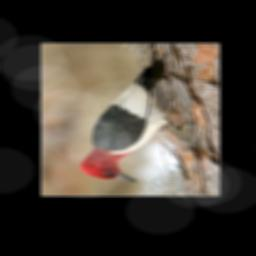Woodpecker: (78, 52, 197, 184)
